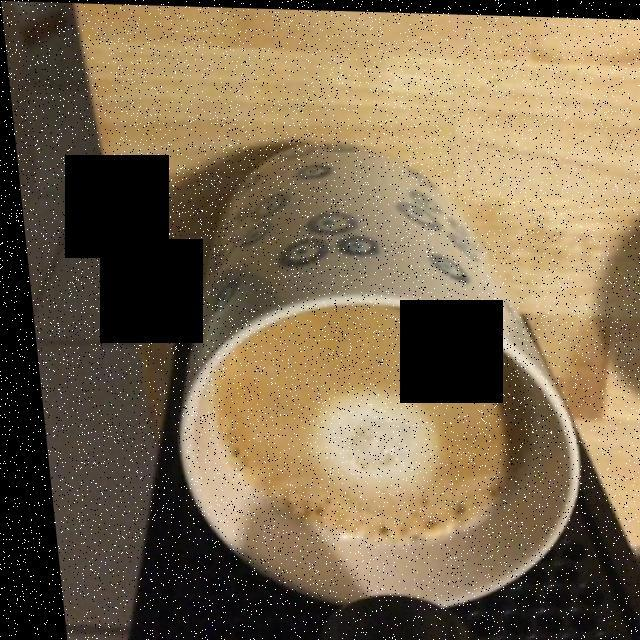coffee: (206, 310, 507, 536)
